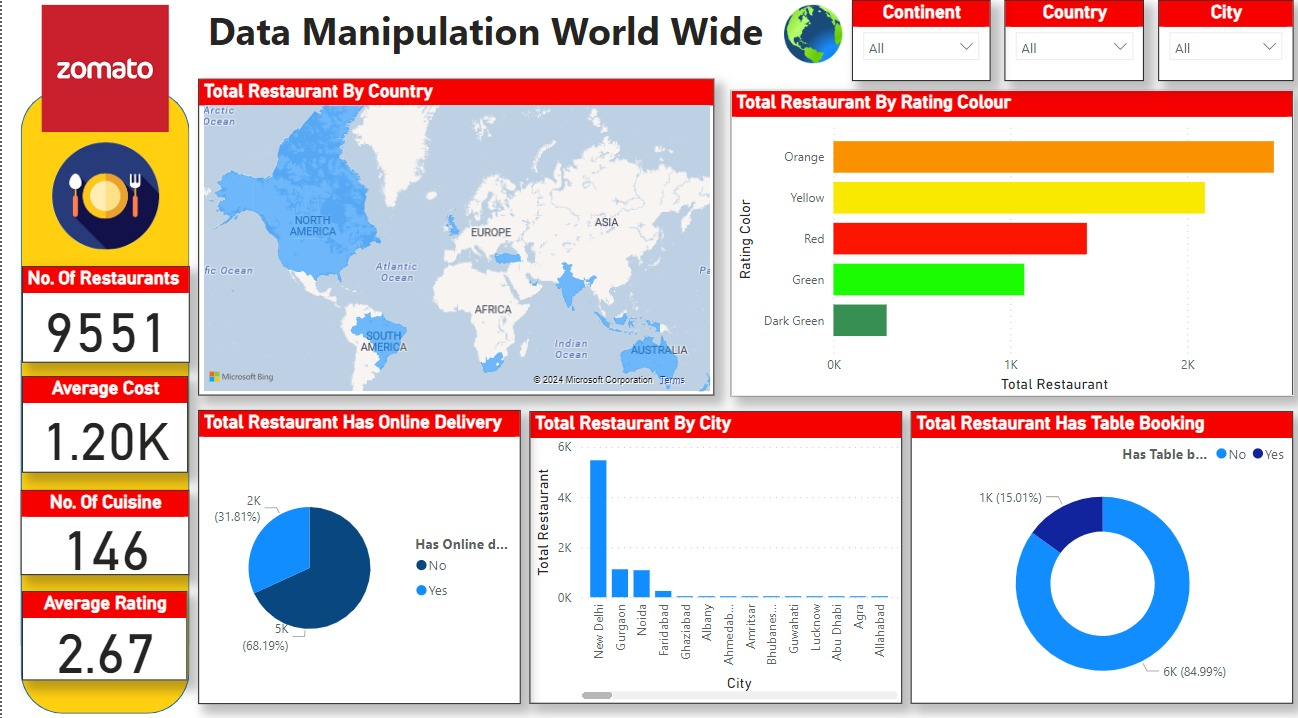

The dashboard page shown, as its layout file describes it:
{"tool":"powerbi","page":{"name":"Page 1","canvas":[1280,720],"ordinal":0},"visuals":[{"type":"shape","box":[18.9,88.9,166.7,631.1],"z":0},{"type":"card","title":"No. Of Restaurants","fields":{"Values":["Zomato Global.Restaurant Count"]},"box":[19.2,263.5,166,94.7],"z":1000},{"type":"card","title":"Average Cost","fields":{"Values":["Fact Table.Average Cost"]},"box":[17.8,371.9,166,94.7],"z":2000},{"type":"card","title":"No. Of Cuisine","fields":{"Values":["Cuisines.Cuisines Count"]},"box":[17.8,496.7,166,83.7],"z":3000},{"type":"card","title":"Average Rating","fields":{"Values":["Fact Table.Average Rating"]},"box":[19.2,596.9,166,87.8],"z":4000},{"type":"barChart","title":"Total Restaurant By Rating Colour","fields":{"Y":["Zomato Global.Restaurant Count"],"Category":["Fact Table.Rating Color"]},"box":[720,89.2,540.3,301.9],"z":5000},{"type":"image","box":[0,0,204.4,135.6],"z":6000},{"type":"textbox","box":[185.8,0,581.9,67.2],"z":7000},{"type":"slicer","title":"Country","fields":{"Values":["Country Code.Country"]},"box":[990,0,137.8,80],"z":8000},{"type":"slicer","title":"Continent","fields":{"Values":["Country Code.Continent"]},"box":[840,0,136.7,80],"z":9000},{"type":"slicer","title":"City","fields":{"Values":["Zomato Global.City"]},"box":[1142.2,0,133.3,80],"z":10000},{"type":"image","box":[742.2,0,117.8,67.8],"z":11000},{"type":"columnChart","title":"Total Restaurant By City","fields":{"Category":["Zomato Global.City"],"Y":["Zomato Global.Total Restaurant"]},"box":[520.7,405.8,338.6,287.3],"z":11001},{"type":"image","box":[0,135.8,204.5,115.3],"z":11002},{"type":"pieChart","title":"Total Restaurant Has Online Delivery","fields":{"Y":["Zomato Global.Total Restaurant"],"Category":["Fact Table.Has Online delivery"]},"box":[194.4,404.6,317.8,287.3],"z":11003},{"type":"donutChart","title":"Total Restaurant Has Table Booking","fields":{"Y":["Zomato Global.Total Restaurant"],"Category":["Fact Table.Has Table booking"]},"box":[870.4,405.8,376.5,289.7],"z":11004},{"type":"filledMap","title":"Total Restaurant By Country","fields":{"Category":["Country Code.Country"]},"box":[194.4,78.2,509.7,312.9],"z":11005}]}

Visuals, with their boxes in screenshot pixels (x1, y1, x2, y2), scaled from the page's 1280x720 canvas onto the 1298x718 screenshot:
shape: box(19, 89, 188, 717)
"No. Of Restaurants" card: box(19, 263, 188, 357)
"Average Cost" card: box(18, 371, 186, 465)
"No. Of Cuisine" card: box(18, 495, 186, 579)
"Average Rating" card: box(19, 595, 188, 683)
"Total Restaurant By Rating Colour" barChart: box(730, 89, 1278, 390)
image: box(0, 0, 207, 135)
textbox: box(188, 0, 778, 67)
"Country" slicer: box(1004, 0, 1144, 80)
"Continent" slicer: box(852, 0, 990, 80)
"City" slicer: box(1158, 0, 1293, 80)
image: box(753, 0, 872, 68)
"Total Restaurant By City" columnChart: box(528, 405, 871, 691)
image: box(0, 135, 207, 250)
"Total Restaurant Has Online Delivery" pieChart: box(197, 403, 519, 690)
"Total Restaurant Has Table Booking" donutChart: box(883, 405, 1264, 694)
"Total Restaurant By Country" filledMap: box(197, 78, 714, 390)
